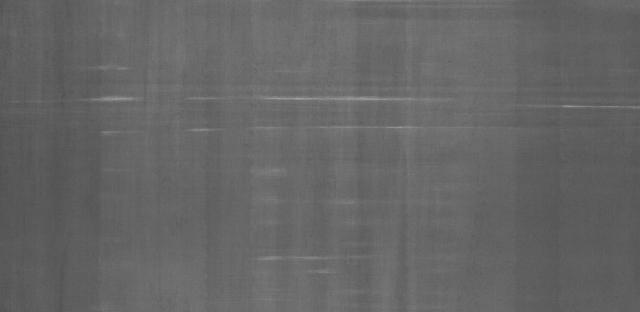waist_folding: (27, 37, 640, 166), (234, 220, 515, 309)
